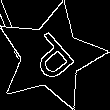P_SE: (20, 25, 82, 88)
